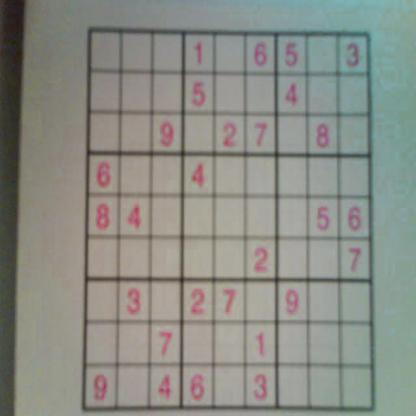sudoku: (80, 22, 378, 413)
